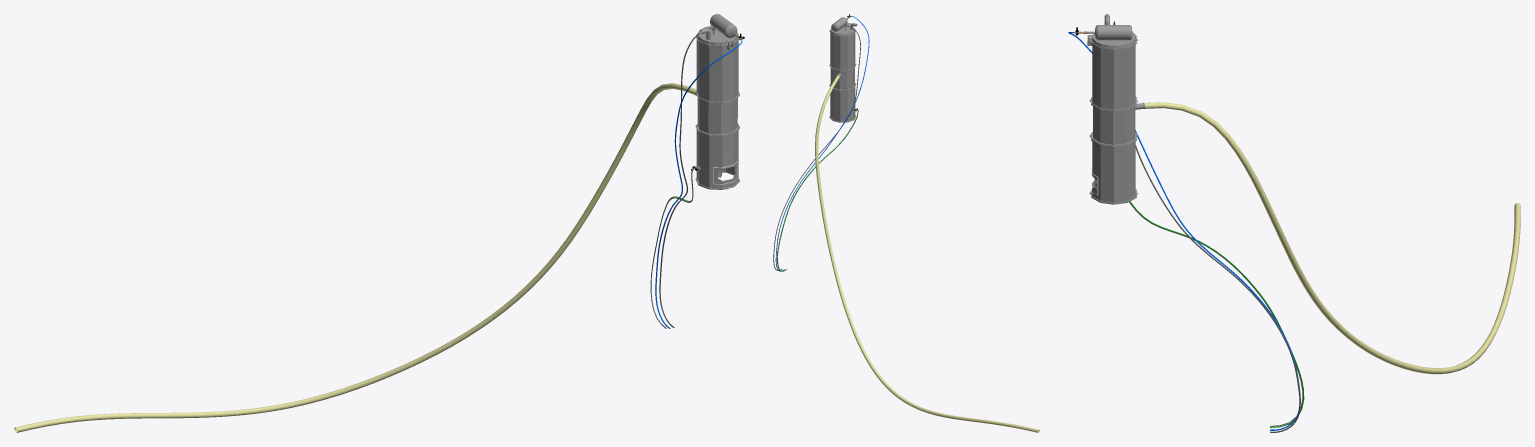
Rendered from Drum Machine Part.fbx.
3 renders of one model, left to right at view 1: azimuth 30°, elevation 25°; view 2: azimuth 150°, elevation 25°; view 3: azimuth 270°, elevation 25°, orthographic. The views are drawn at different scales.
Parts seen in each view (by area): view 1: _drum_2_wire, _drum_3, _polySurface45, _Middle_drum; view 2: _drum_2_wire, _drum_3, _polySurface45, _Middle_drum, _sweep15, _sweep16, _sweep14; view 3: _drum_2_wire, _drum_3, _polySurface45, _Middle_drum, _sweep16, _sweep15, _sweep14, _cylinder.
Boxes of the visible parts, x1,y1,x2,y2 form: _drum_2_wire: [14, 83, 696, 432]; _drum_3: [696, 39, 738, 101]; _polySurface45: [696, 129, 738, 187]; _Middle_drum: [695, 91, 738, 134]; _drum_2_wire: [815, 75, 1039, 432]; _drum_3: [830, 33, 855, 69]; _polySurface45: [830, 87, 855, 121]; _Middle_drum: [830, 67, 855, 89]; _sweep15: [775, 16, 869, 271]; _sweep16: [773, 25, 860, 270]; _sweep14: [777, 111, 858, 271]; _drum_2_wire: [1144, 102, 1520, 374]; _drum_3: [1092, 44, 1135, 109]; _polySurface45: [1092, 134, 1136, 202]; _Middle_drum: [1092, 102, 1144, 145]; _sweep16: [1113, 21, 1300, 432]; _sweep15: [1068, 32, 1300, 430]; _sweep14: [1129, 201, 1304, 427]; _cylinder: [1084, 25, 1132, 40].
Size of the model in its own units: 389 by 306 by 260.
